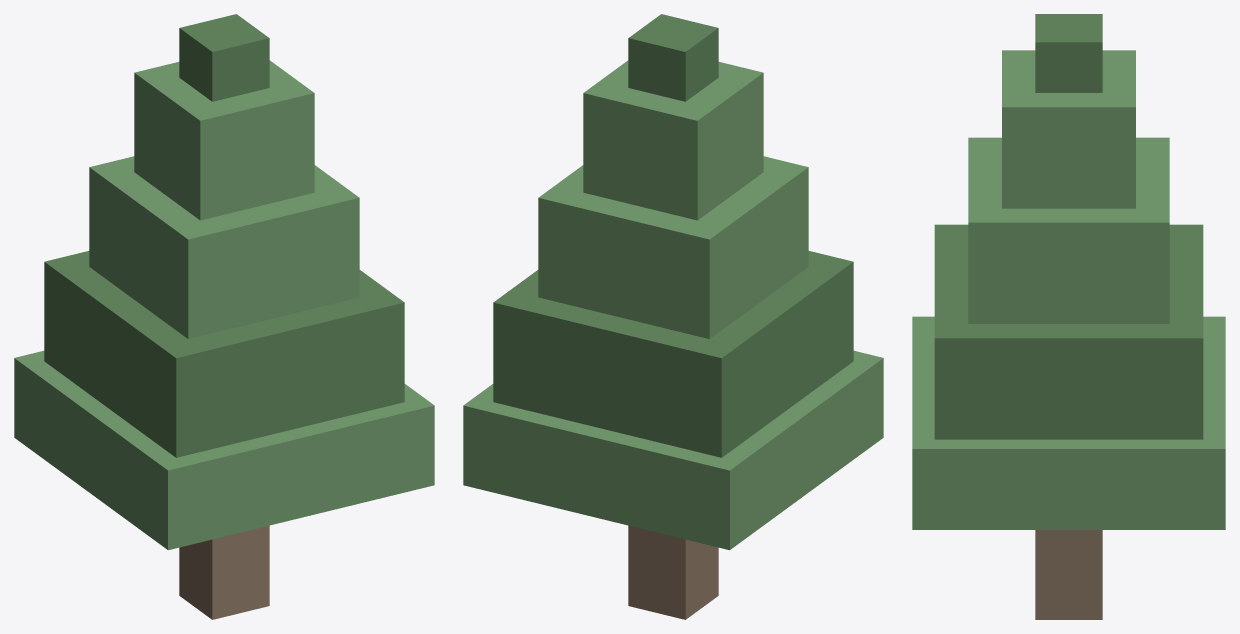
File: pinetree.glb
3 renders of one model, left to right at view 1: azimuth 30°, elevation 25°; view 2: azimuth 150°, elevation 25°; view 3: azimuth 270°, elevation 25°, orthographic.
Parts seen in each view (by area): view 1: Prop_PineTree; view 2: Prop_PineTree; view 3: Prop_PineTree.
Part boxes in pixels (left/top/right/bottom): Prop_PineTree: left=14, top=14, right=434, bottom=619; Prop_PineTree: left=463, top=14, right=883, bottom=619; Prop_PineTree: left=912, top=14, right=1225, bottom=619.
Size of the model in its own units: 2.8 by 5.7 by 2.8.
